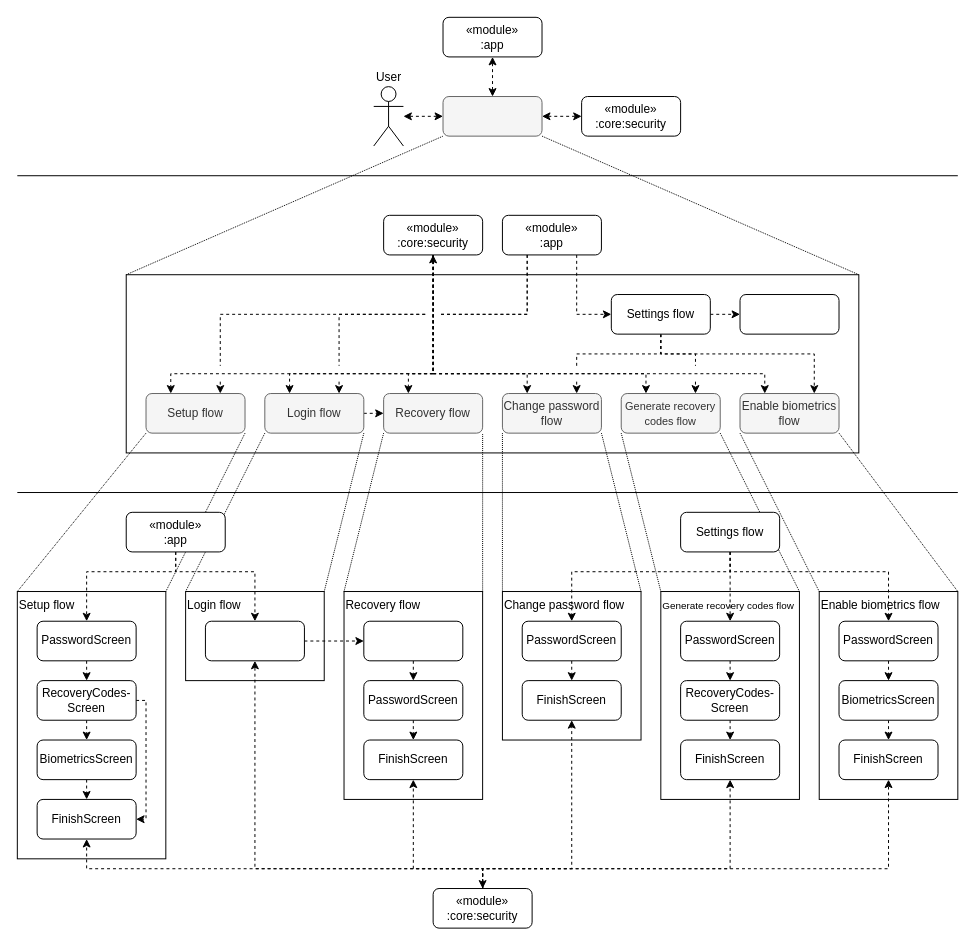
Image size: 976x945. Some labels were removed from this diagram. Each missing label, with the box of its shape:
:feature:auth: (125, 274, 859, 453)
Disable biometrics: (739, 294, 839, 334)
LoginScreen: (204, 620, 304, 661)
RecoveryScreen: (363, 620, 463, 661)
«module» :feature:auth: (442, 96, 542, 136)
